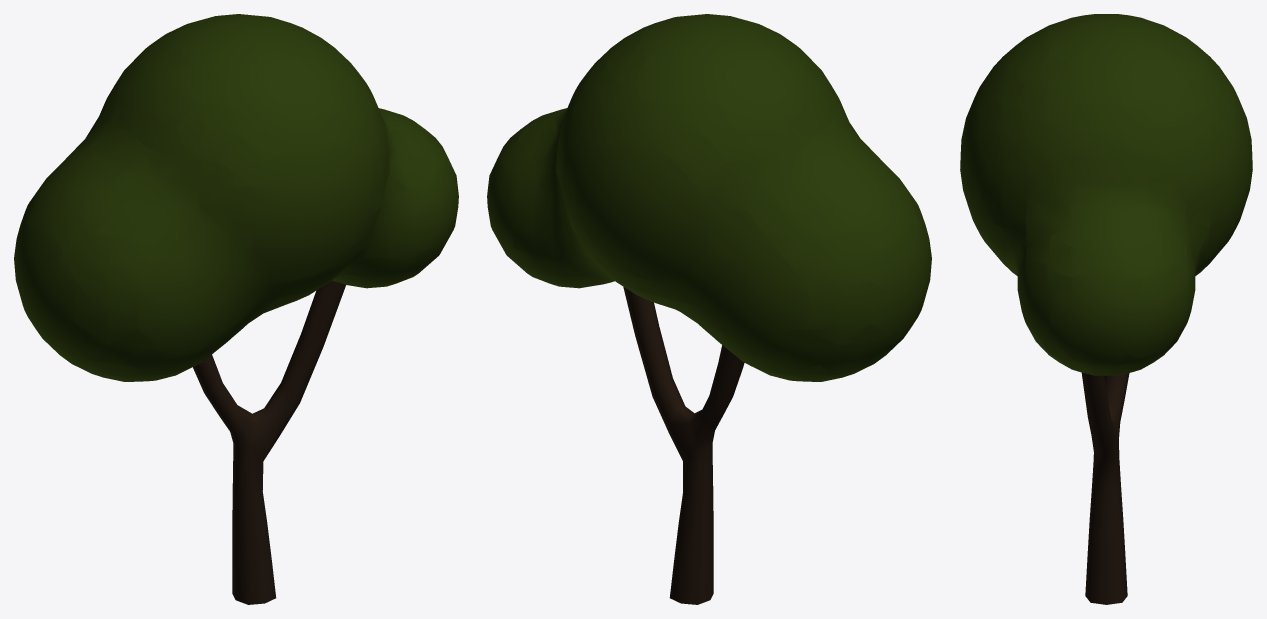
File: Tree_3.obj
3 renders of one model, left to right at view 1: azimuth 30°, elevation 25°; view 2: azimuth 150°, elevation 25°; view 3: azimuth 270°, elevation 25°, orthographic.
Visible parts, largest first — view 1: Tree_3_Mesh.001; view 2: Tree_3_Mesh.001; view 3: Tree_3_Mesh.001.
Boxes of the visible parts, x1=… form: Tree_3_Mesh.001: x1=14, y1=14, x2=458, y2=604; Tree_3_Mesh.001: x1=487, y1=14, x2=931, y2=604; Tree_3_Mesh.001: x1=960, y1=14, x2=1252, y2=604.
Bounding box in the file's own units: 4.27 × 5.59 × 2.64.
